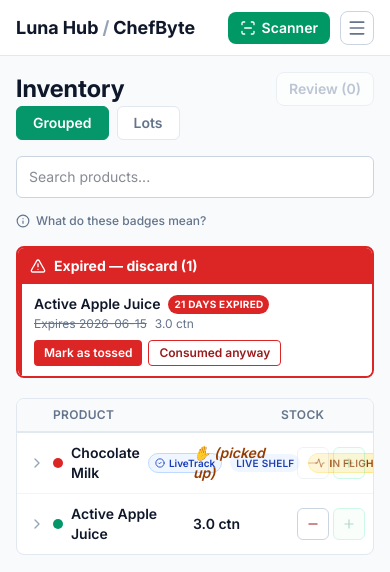
Test: InventoryPage — in-flight lot visibility (bug 2026-04-22) › shows the in-flight lot in the Lots view with badge + (picked up) label, before the active lot
Expected: the element with test id "inv-product-prod-active" is shown, [17,494,373,554]
// Click the "Lots" button.
Step 1. Click the button "Lots" → (148, 123), box [117,106,180,140]
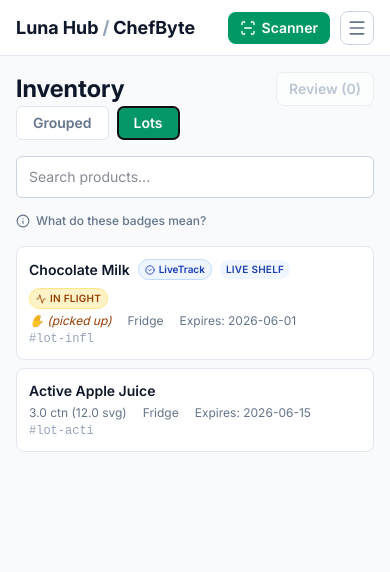
Expected: the button with test id "lot-inflight-badge-lot-inflight" reads "In Flight", [29,288,108,309]
Expected: the element with test id "lot-row-lot-inflight" is shown, [16,246,374,360]
